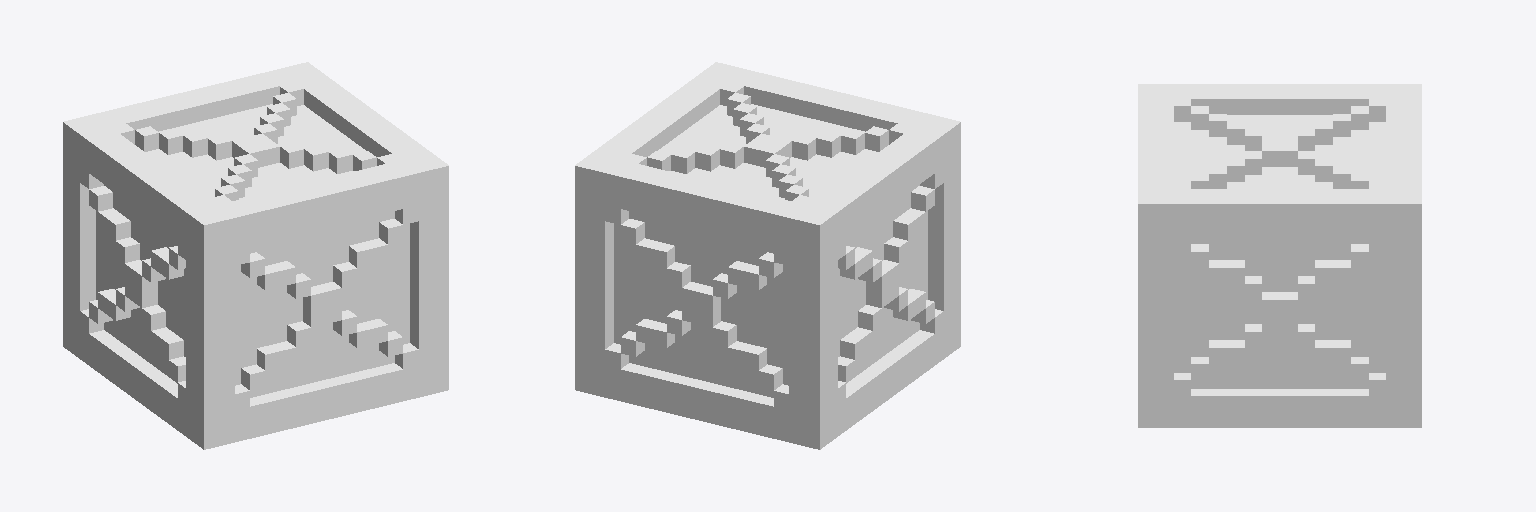
File: CrateV1.obj
3 views of the same model, side by side, from view 1: azimuth 30°, elevation 25°; view 2: azimuth 150°, elevation 25°; view 3: azimuth 270°, elevation 25° (orthographic).
Visible parts, largest first — view 1: object 1; view 2: object 1; view 3: object 1.
Part boxes in pixels (left/top/right/bottom): object 1: left=63, top=62, right=448, bottom=449; object 1: left=575, top=62, right=960, bottom=449; object 1: left=1138, top=84, right=1421, bottom=427.
Bounding box in the file's own units: 1.6 × 1.4 × 1.6.